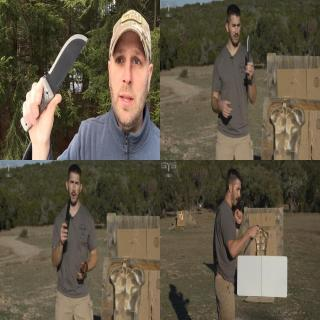knife: (28, 28, 90, 128), (59, 191, 73, 243), (240, 223, 258, 254), (245, 32, 253, 78)
